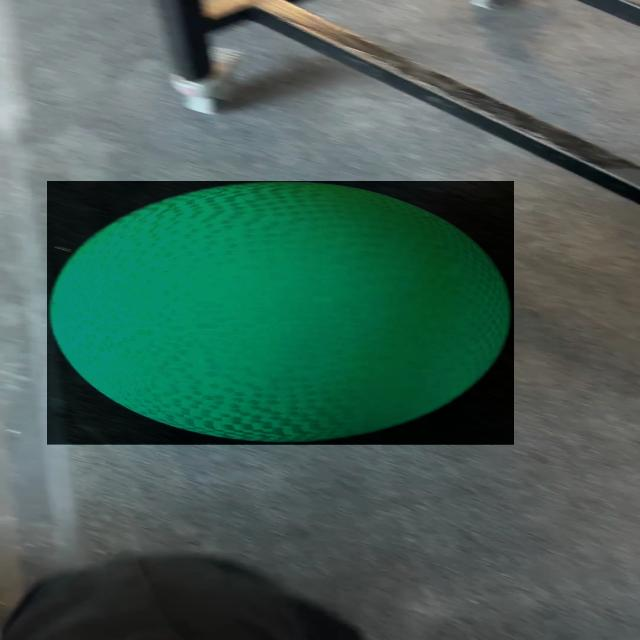Algae: (47, 182, 514, 446)
